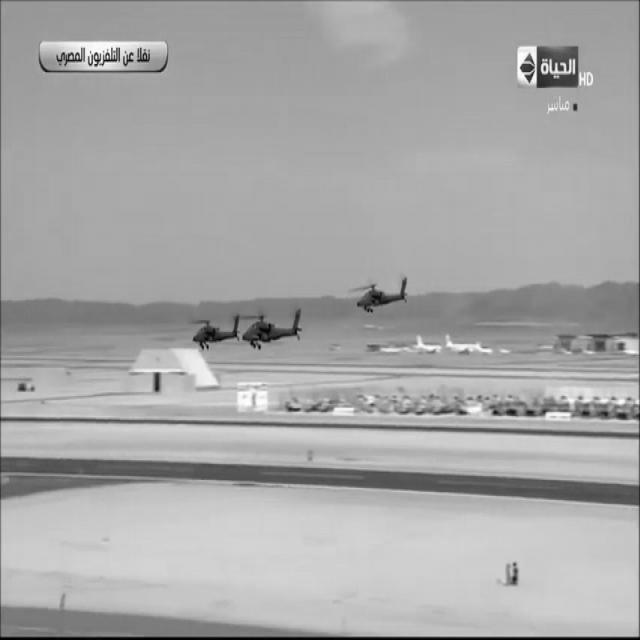helikopter: (346, 273, 416, 340), (244, 301, 308, 360), (186, 296, 242, 354)
